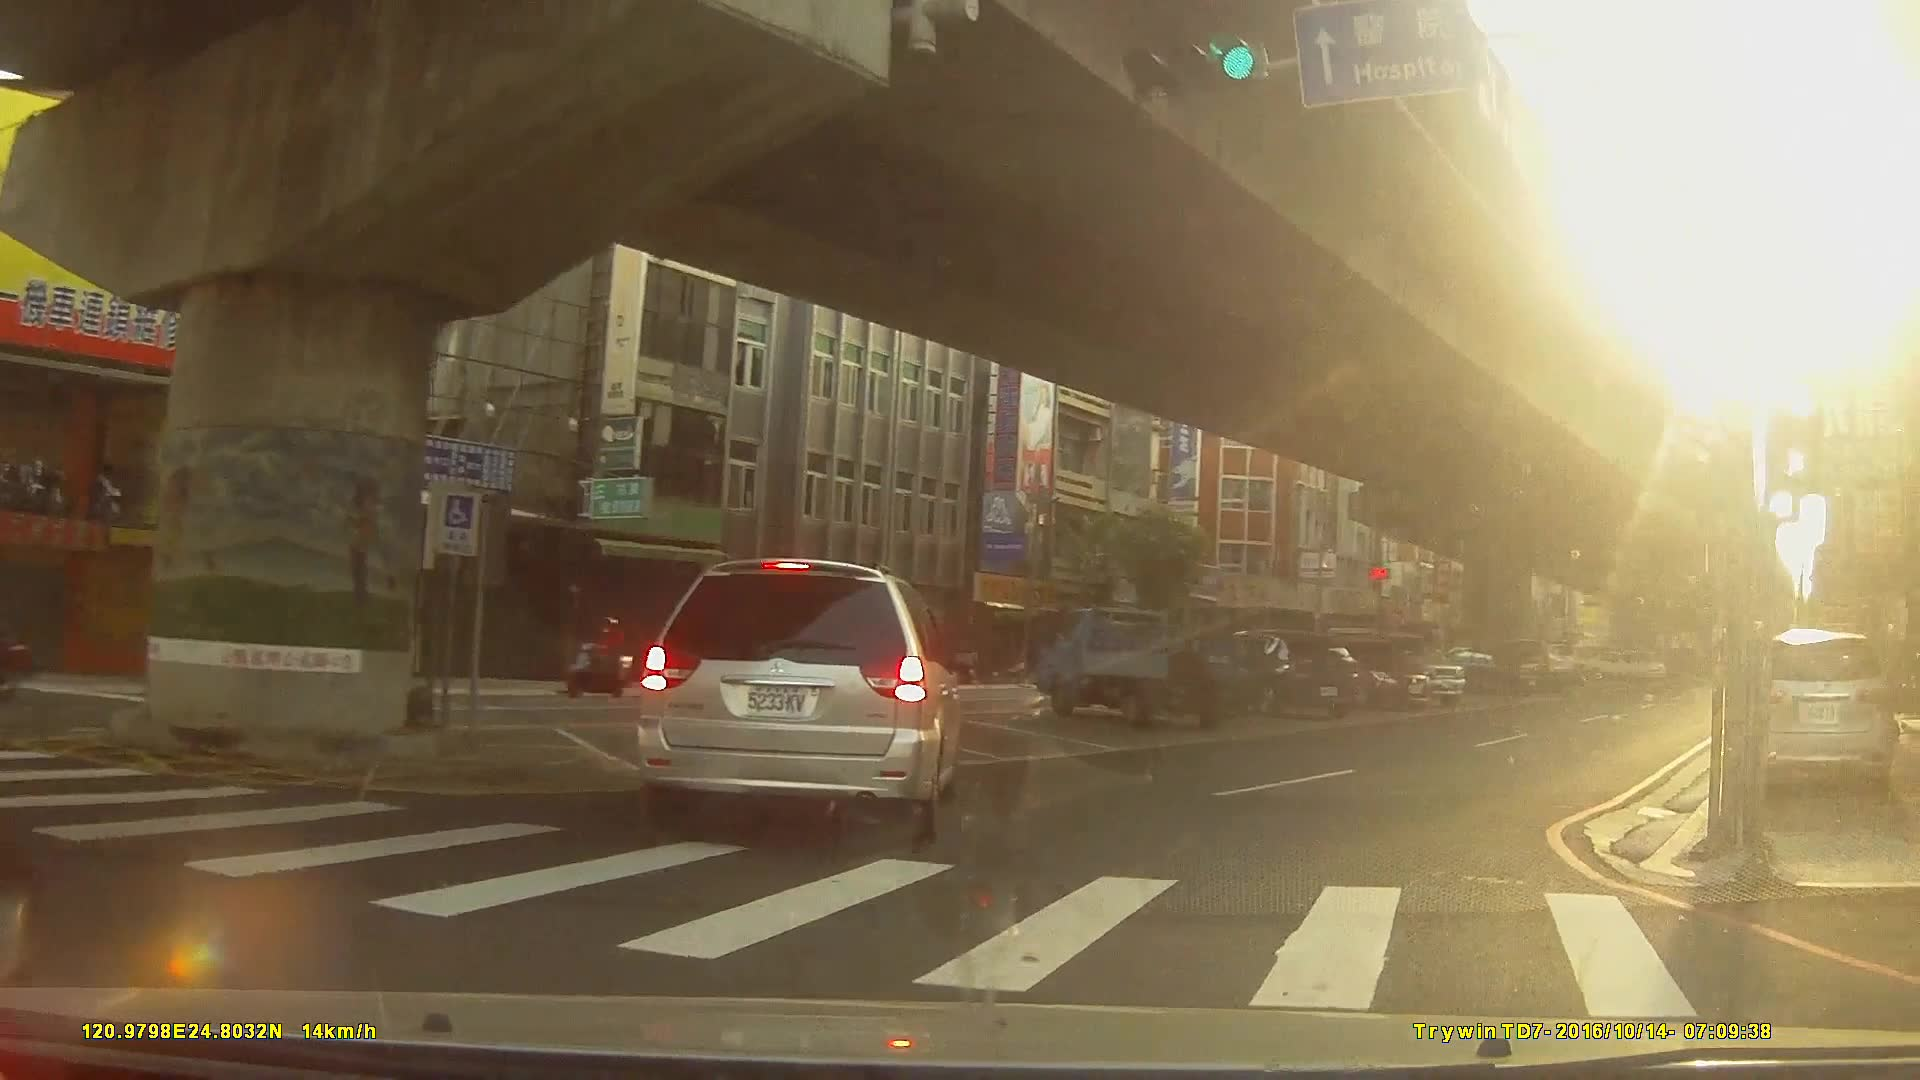rider: (570, 616, 638, 701), (1, 575, 21, 707)
vehicle: (636, 557, 961, 849), (1033, 602, 1255, 724), (1741, 628, 1893, 802), (1199, 626, 1357, 717), (1284, 634, 1432, 710), (1422, 645, 1521, 697)
